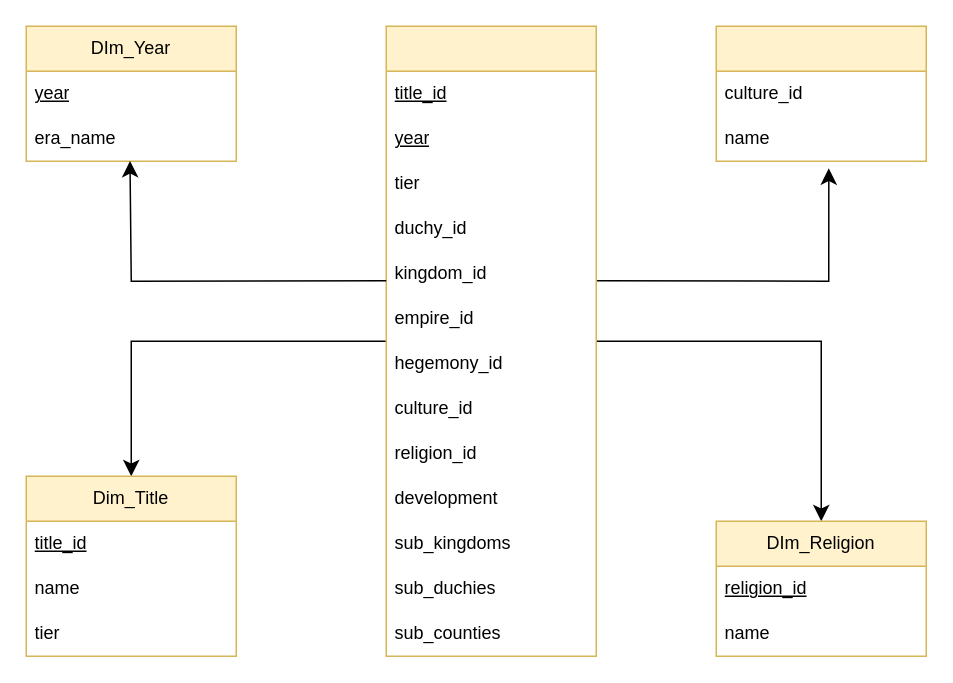
Image size: 953x683. Some labels were removed from this diagram. Each missing label, with the box of its shape:
Dim_Culture: (715, 25, 926, 161)
Fact_Title_Snapshot: (385, 25, 596, 656)
